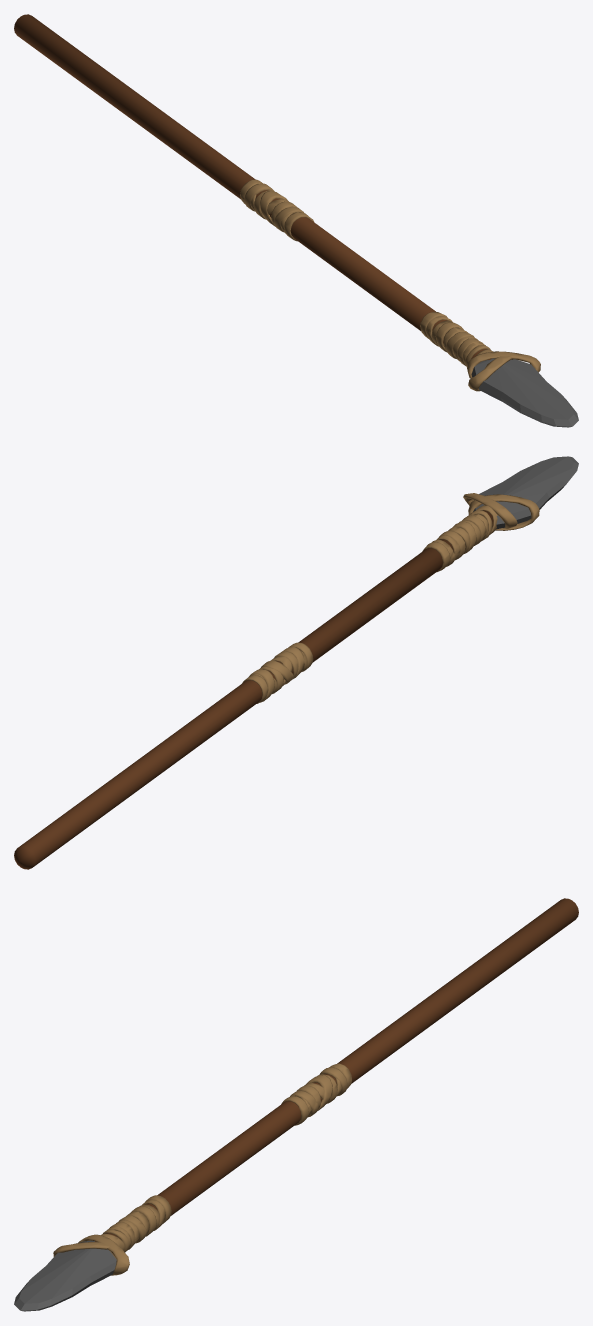
The model's file is Lanza5.fbx.
The picture shows the model from 3 angles, top to bottom: view 1: azimuth 30°, elevation 25°; view 2: azimuth 150°, elevation 25°; view 3: azimuth 330°, elevation 25°; orthographic projection.
Parts seen in each view (by area): view 1: Cylinder, Cylinder.001, Cylinder.025, Cylinder.002, Cylinder.003; view 2: Cylinder, Cylinder.025, Cylinder.001, Cylinder.003, Cylinder.002; view 3: Cylinder, Cylinder.025, Cylinder.001, Cylinder.002.
Part boxes in pixels (<box>): Cylinder: <box>14,14,491,359</box>; Cylinder.001: <box>471,358,578,427</box>; Cylinder.025: <box>240,179,492,366</box>; Cylinder.002: <box>467,351,540,378</box>; Cylinder.003: <box>468,356,512,391</box>; Cylinder: <box>14,510,493,869</box>; Cylinder.025: <box>242,505,497,703</box>; Cylinder.001: <box>473,456,578,529</box>; Cylinder.003: <box>468,494,539,530</box>; Cylinder.002: <box>463,493,517,528</box>; Cylinder: <box>95,898,578,1241</box>; Cylinder.025: <box>100,1063,352,1252</box>; Cylinder.001: <box>14,1240,116,1311</box>; Cylinder.002: <box>78,1234,129,1275</box>.
Bounding box in the file's own units: 72.54 × 26.75 × 966.
